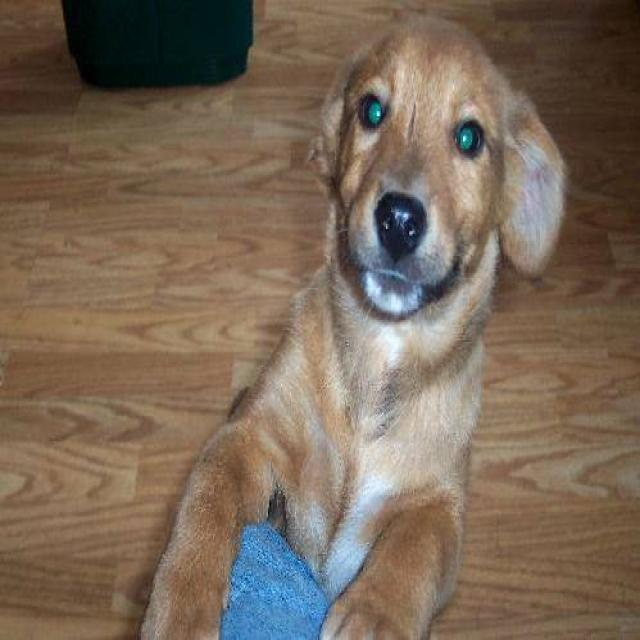dog: (134, 7, 568, 638)
